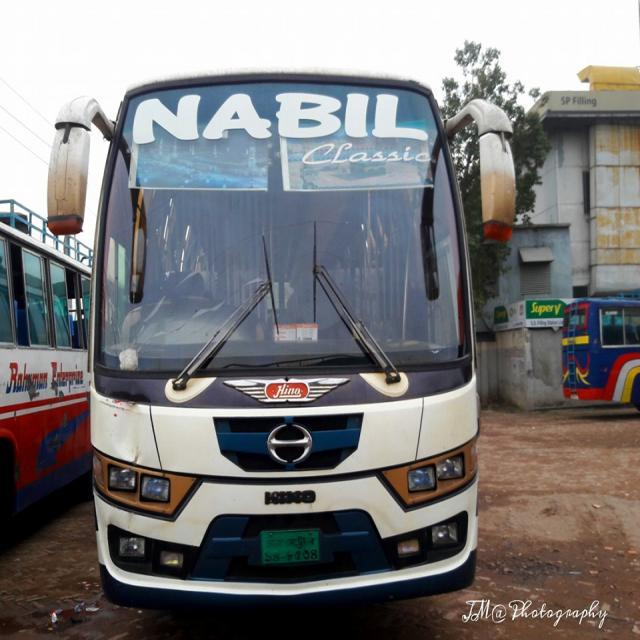bus: (45, 63, 519, 616)
